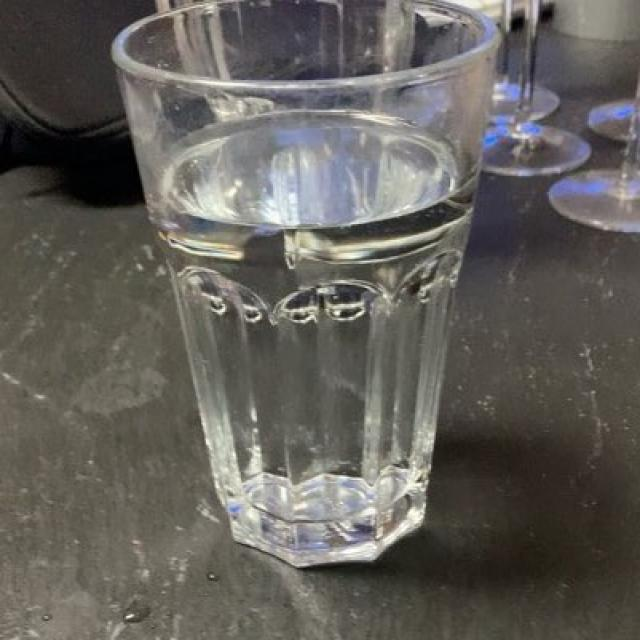water: (158, 122, 466, 530)
